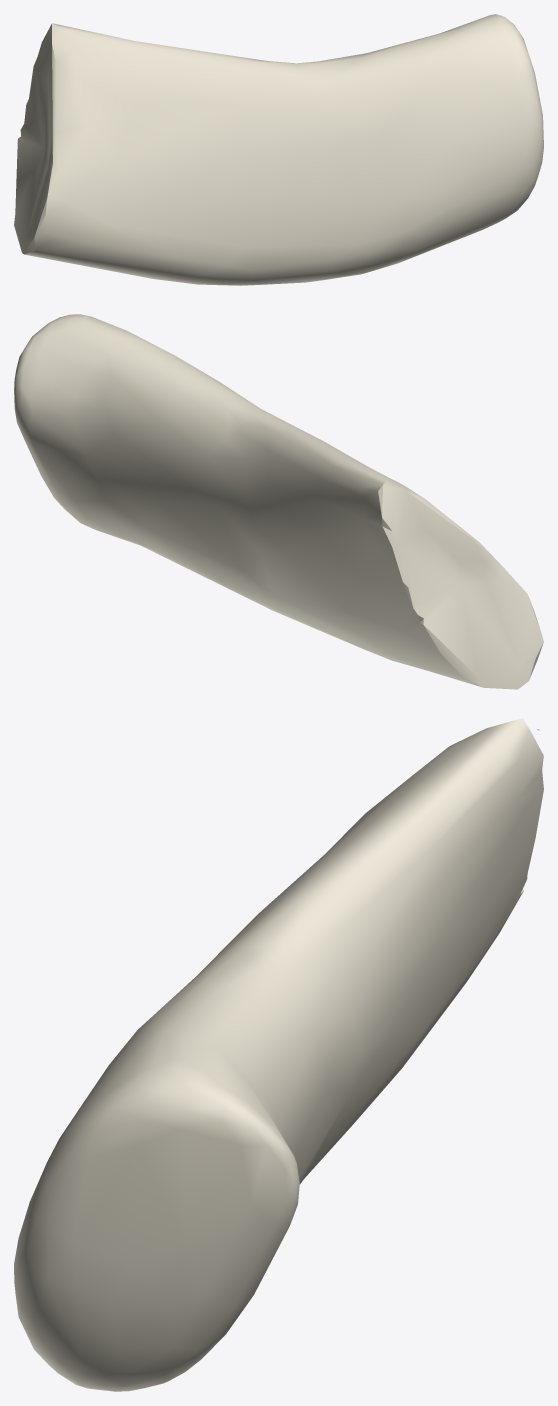
File: fma7886_fj3335.glb
3 renders of one model, top to bottom at view 1: azimuth 30°, elevation 25°; view 2: azimuth 150°, elevation 25°; view 3: azimuth 270°, elevation 25°, orthographic. The views are drawn at different scales.
Visible parts, largest first — view 1: FMA7886_FJ3335; view 2: FMA7886_FJ3335; view 3: FMA7886_FJ3335.
Part boxes in pixels (<box>): FMA7886_FJ3335: <box>14,14,543,285</box>; FMA7886_FJ3335: <box>14,314,543,689</box>; FMA7886_FJ3335: <box>14,718,543,1391</box>.
Size of the model in its own units: 0.0379 by 0.0179 by 0.0205.
